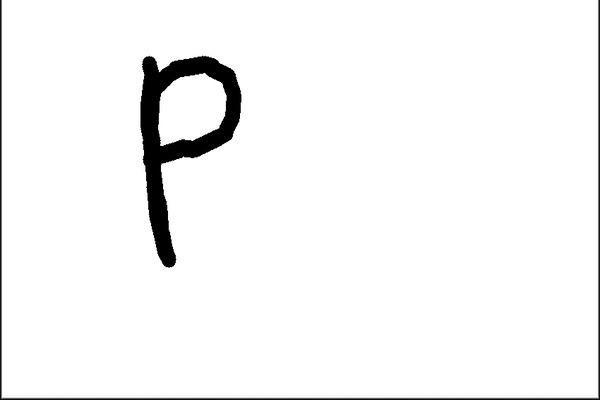P: (119, 43, 263, 280)
